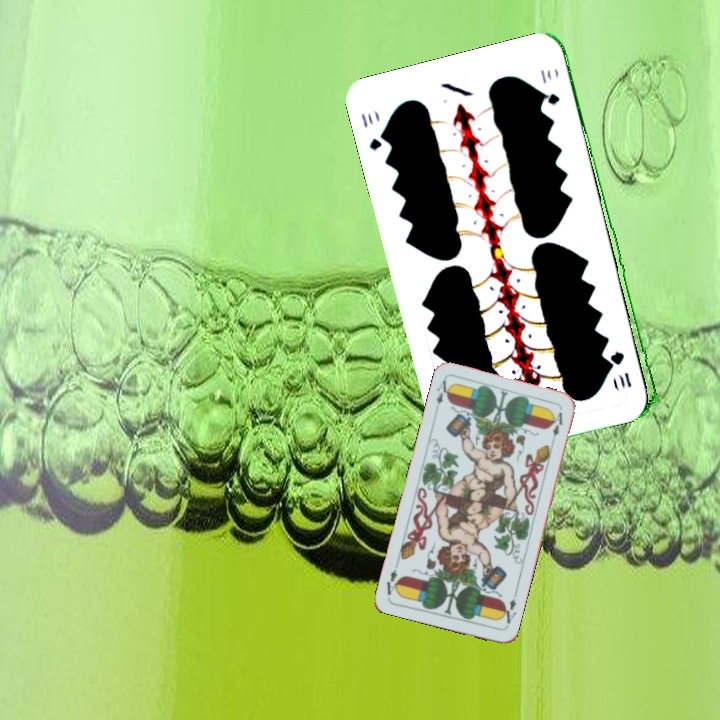EA: (431, 376, 454, 415), (496, 595, 519, 626)
G10: (357, 109, 391, 153), (610, 347, 634, 391)
